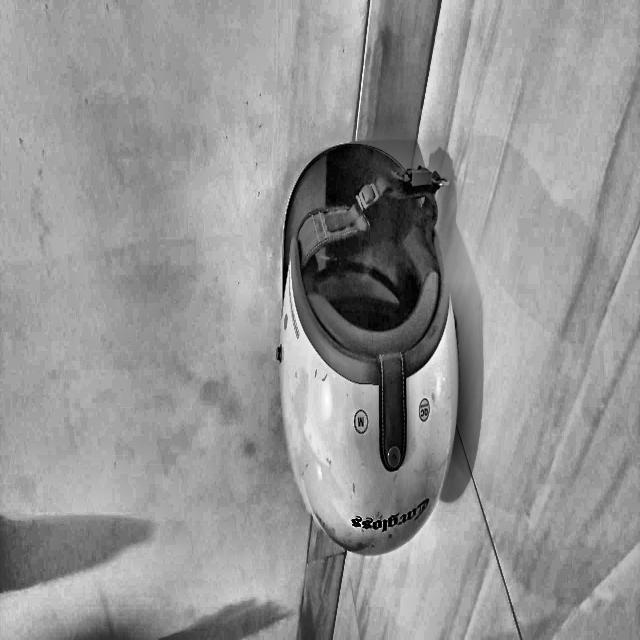Helmet: (273, 135, 481, 568)
